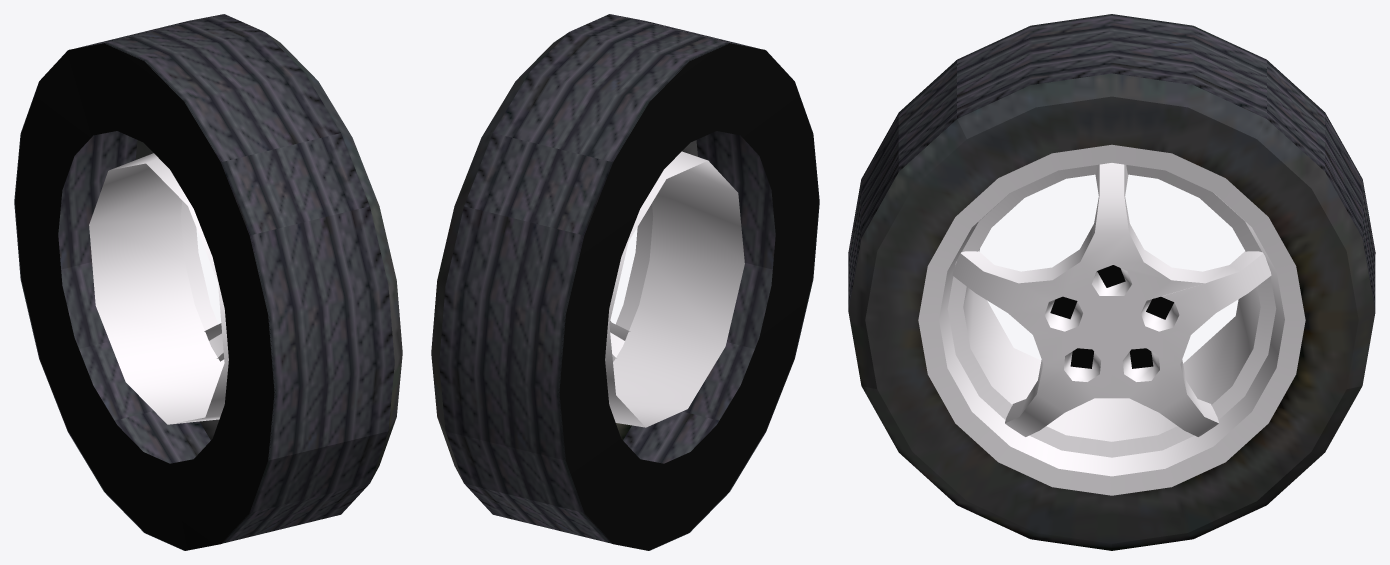
File: wheel.fbx
3 renders of one model, left to right at view 1: azimuth 30°, elevation 25°; view 2: azimuth 150°, elevation 25°; view 3: azimuth 270°, elevation 25°, orthographic.
Parts seen in each view (by area): view 1: wheel; view 2: wheel; view 3: wheel.
Boxes of the visible parts, x1=… form: wheel: x1=14, y1=14, x2=402, y2=550; wheel: x1=431, y1=14, x2=819, y2=550; wheel: x1=848, y1=14, x2=1375, y2=550.
Size of the model in its own units: 27.54 by 81.18 by 81.18.
3 materials, 2 textured.
